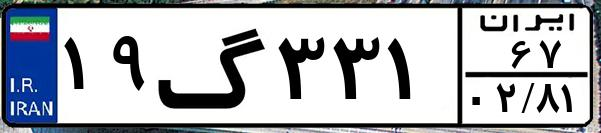0: (470, 70, 495, 125)
1: (385, 28, 445, 110), (57, 26, 110, 100), (560, 70, 590, 125)
2: (495, 70, 520, 125)
3: (270, 28, 330, 110), (330, 28, 385, 110)
6: (508, 27, 537, 80)
7: (537, 27, 568, 80)
8: (535, 70, 560, 125)
9: (110, 28, 156, 98)
گ: (156, 12, 270, 120)
